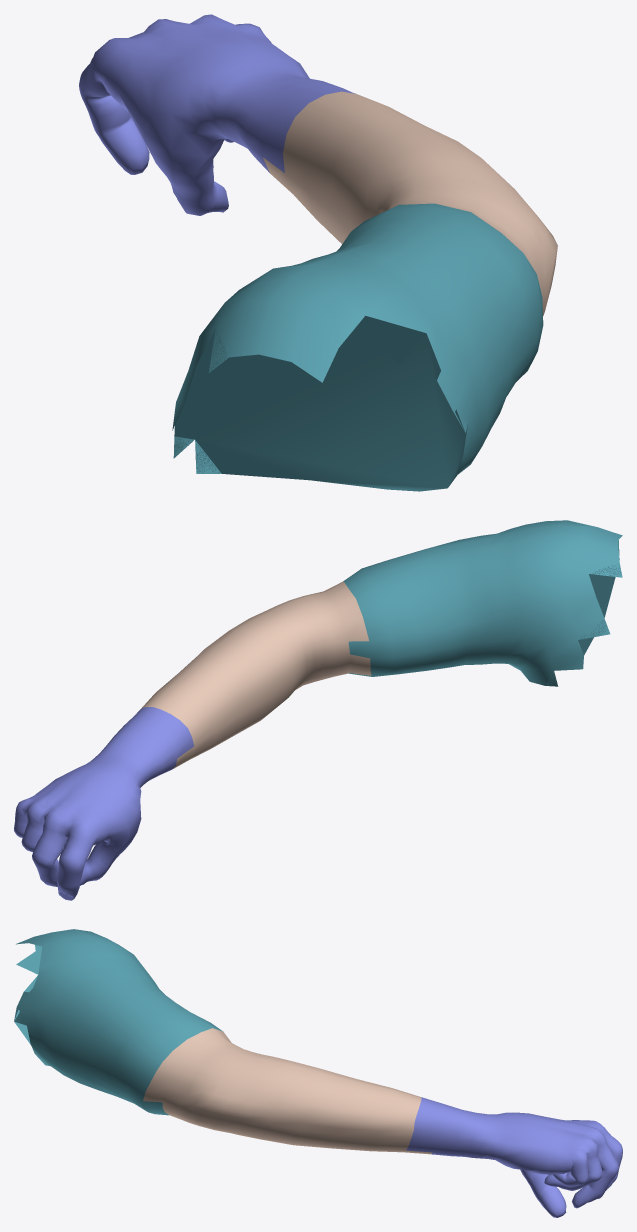
Rendered from main_pince.glb.
3 renders of one model, top to bottom at view 1: azimuth 30°, elevation 25°; view 2: azimuth 150°, elevation 25°; view 3: azimuth 270°, elevation 25°, orthographic. The views are drawn at different scales.
Visible parts, largest first — view 1: main_pince; view 2: main_pince; view 3: main_pince.
Boxes of the visible parts, left/top/right/bottom form: main_pince: left=79, top=14, right=557, bottom=491; main_pince: left=14, top=520, right=622, bottom=900; main_pince: left=14, top=929, right=622, bottom=1217.
Bounding box in the file's own units: 0.3327 × 0.2072 × 0.6135.
